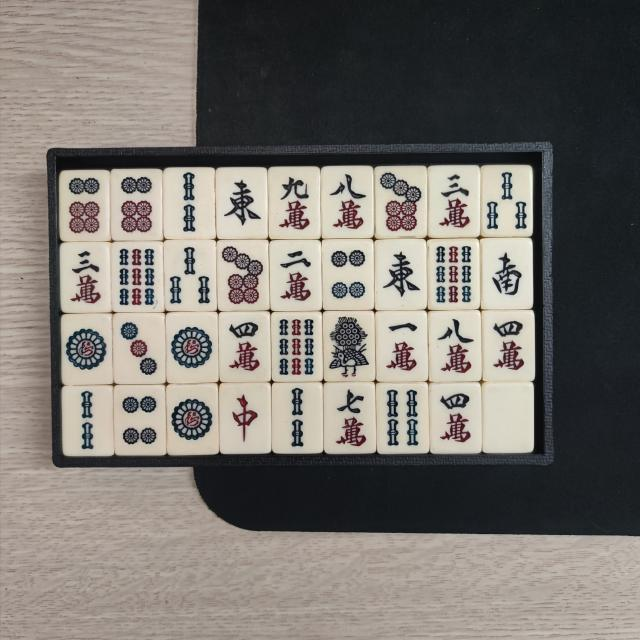hdr: (222, 388, 266, 450)
hdw: (489, 388, 529, 448)
hwe: (378, 244, 424, 306), (221, 172, 265, 236)
hws: (487, 242, 528, 304)
sb1: (326, 314, 372, 378)
sb2: (275, 384, 318, 450), (170, 170, 210, 238), (67, 388, 107, 452)
sb3: (166, 242, 213, 308), (485, 170, 529, 233)
sb4: (382, 386, 422, 449)
sb9: (116, 244, 159, 308), (432, 244, 476, 306), (276, 316, 318, 378)
sc1: (381, 316, 424, 378)
sc2: (274, 244, 318, 306)
sc3: (430, 170, 476, 234), (66, 246, 108, 309)
sc4: (224, 316, 268, 377), (487, 314, 529, 377), (434, 388, 476, 447)
sc7: (330, 386, 370, 450)
sc8: (324, 169, 370, 234), (432, 313, 478, 378)
sc9: (272, 170, 316, 234)
sd1: (168, 316, 214, 378), (170, 390, 215, 449), (64, 321, 109, 378)
sd3: (116, 318, 162, 379)
sd4: (326, 242, 369, 306), (118, 389, 161, 450)
sd6: (115, 172, 158, 237), (64, 174, 104, 238)
sd7: (377, 170, 424, 234), (219, 242, 264, 308)
